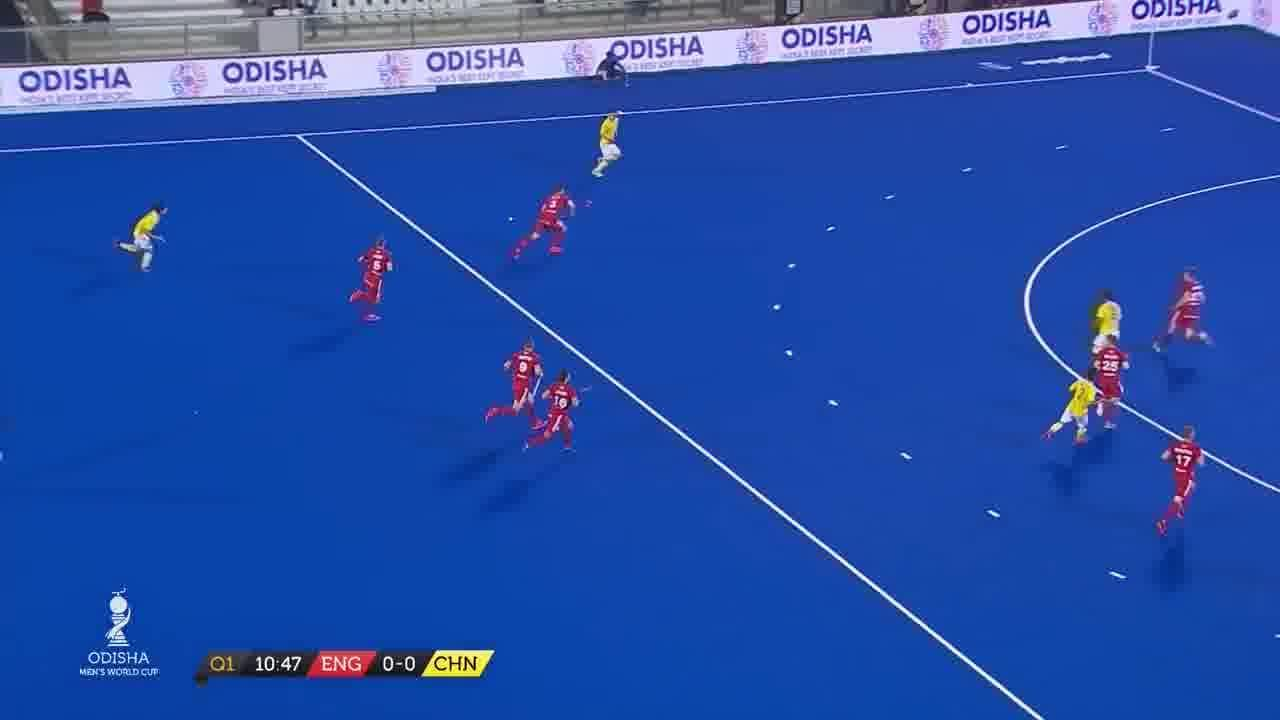ball: (504, 212, 518, 223)
